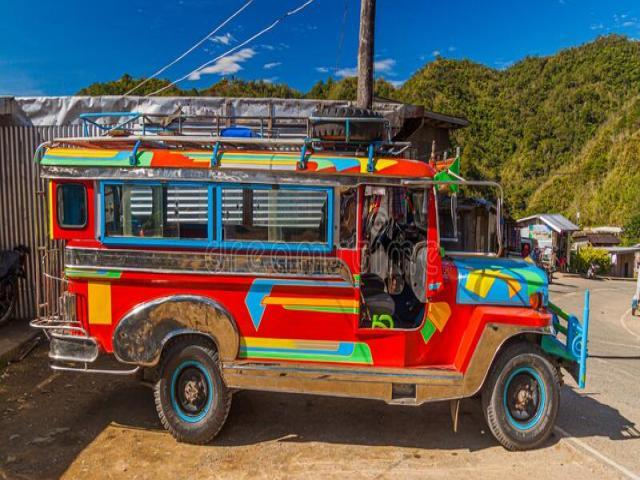jeepney: (24, 95, 594, 460)
